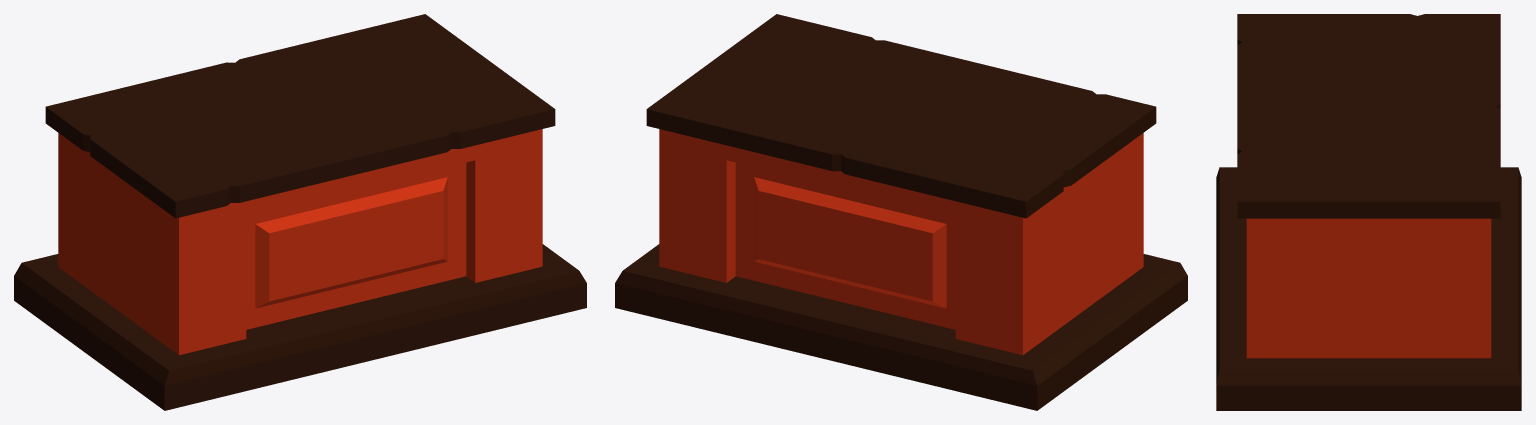
Rendered from wood_table.obj.
3 renders of one model, left to right at view 1: azimuth 30°, elevation 25°; view 2: azimuth 150°, elevation 25°; view 3: azimuth 270°, elevation 25°, orthographic.
Parts seen in each view (by area): view 1: altarWood.001; view 2: altarWood.001; view 3: altarWood.001.
Part boxes in pixels (x1,y1,x2,y2): altarWood.001: (14, 14, 586, 410); altarWood.001: (615, 14, 1187, 410); altarWood.001: (1216, 14, 1521, 410).
Size of the model in its own units: 2.2 by 0.9789 by 1.36.
